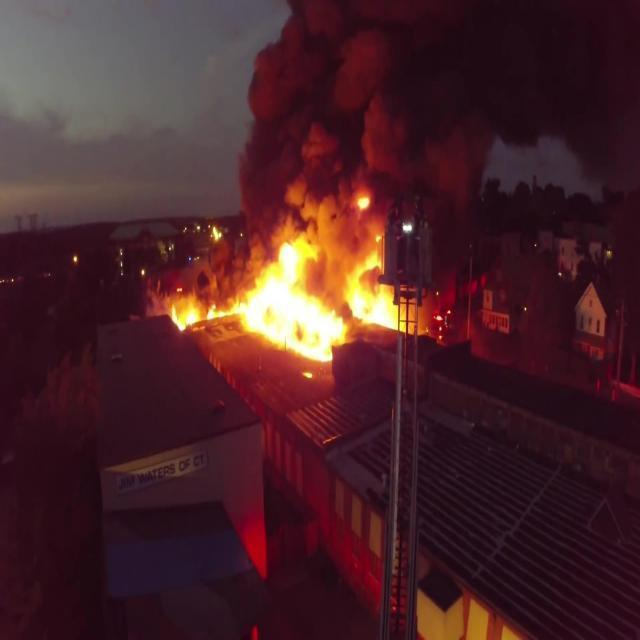Fire: (146, 208, 424, 376)
Smoke: (203, 0, 640, 218)
